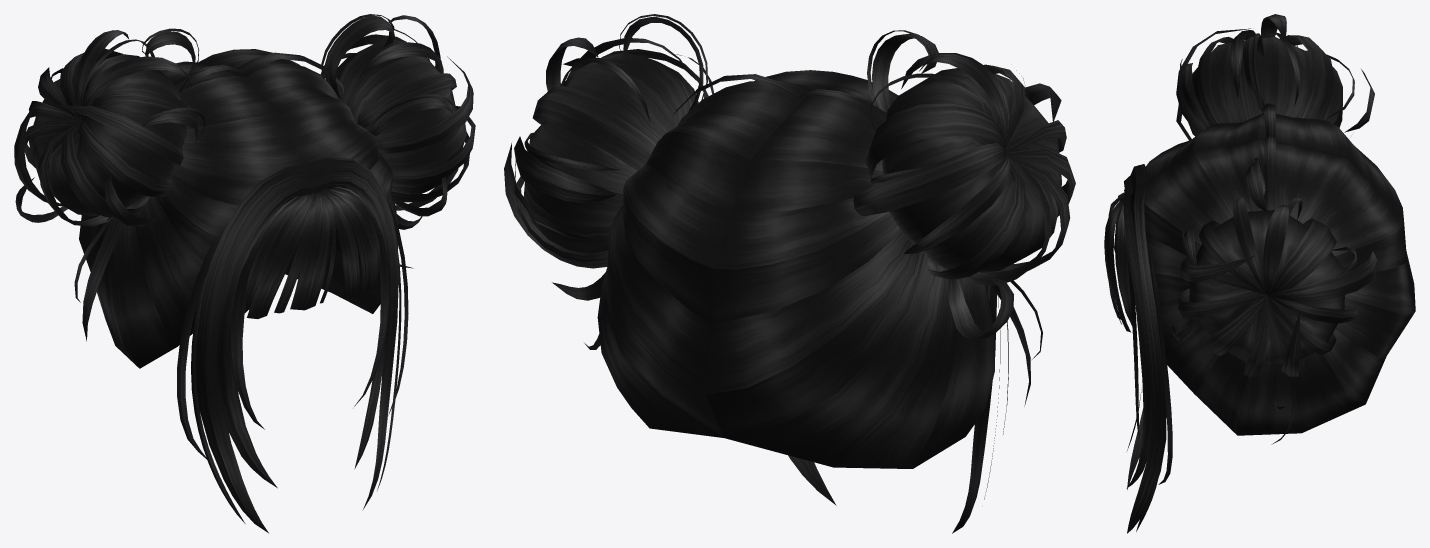
3 views of the same model, side by side, from view 1: azimuth 30°, elevation 25°; view 2: azimuth 150°, elevation 25°; view 3: azimuth 270°, elevation 25° (orthographic). The views are drawn at different scales.
Parts seen in each view (by area): view 1: geometry_0; view 2: geometry_0; view 3: geometry_0.
Boxes of the visible parts, box(x1,y1,x2,y2) form: geometry_0: box(14, 14, 475, 533); geometry_0: box(504, 14, 1075, 533); geometry_0: box(1104, 14, 1415, 533).
Bounding box in the file's own units: 2.29 × 2.32 × 1.5.
1 material, 1 textured.
